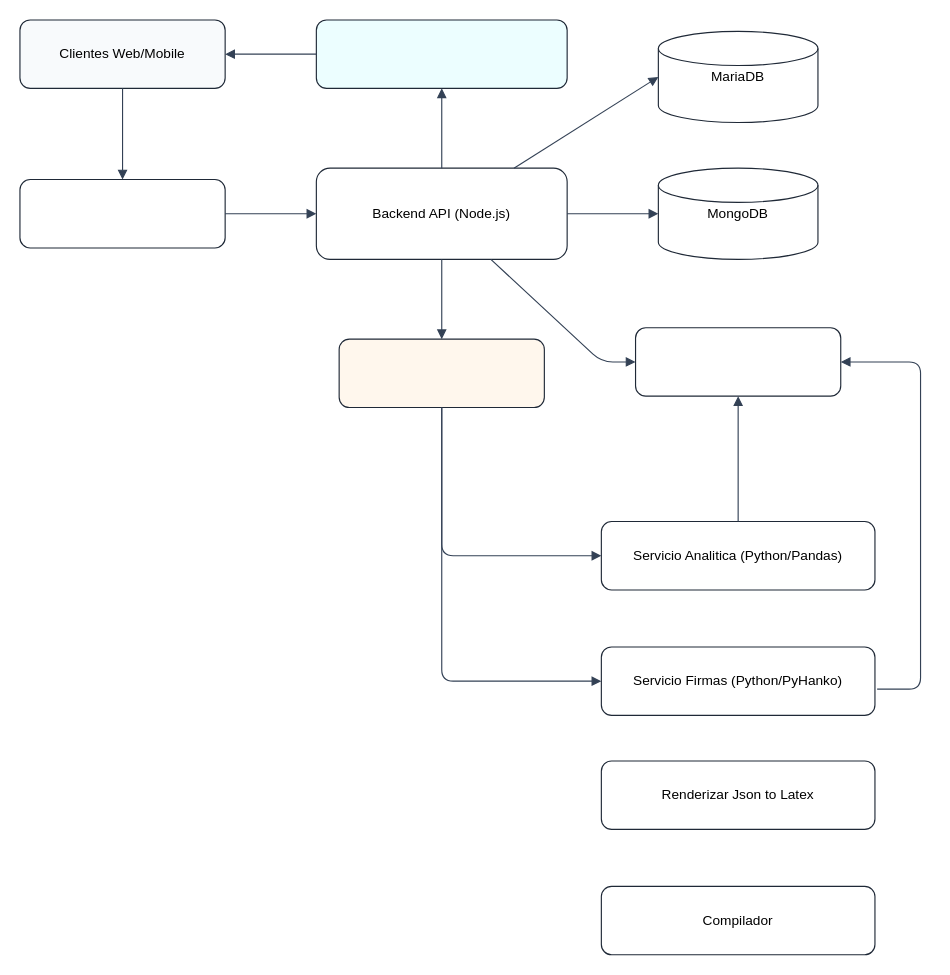
The diagram is 950 pixels wide and 975 high, and some of its shapes have lost their labels. Here are the shapes that lost their labels. From the top down, the centre of each, then its label:
At (x=441, y=53): "EMQX (eventos realtime)".
At (x=122, y=213): "Frontend (Vue)".
At (x=441, y=373): "RabbitMQ (jobs)".
At (x=737, y=361): "Storage (FS/S3/MinIO)".
